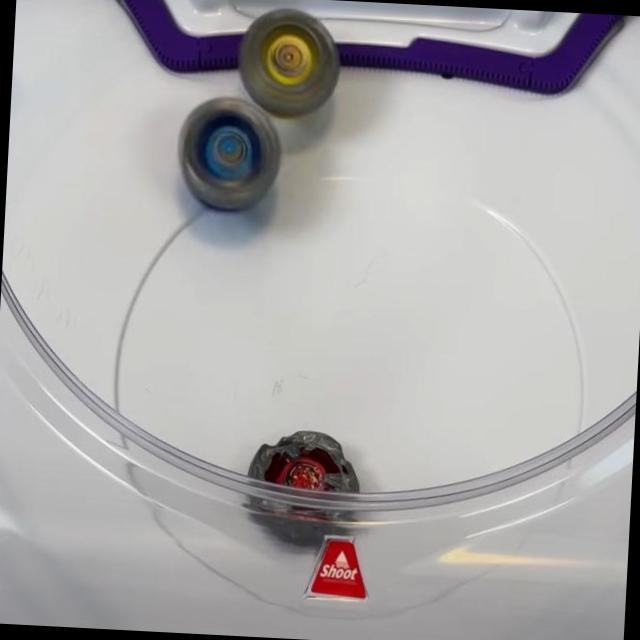Beyblade: (242, 424, 364, 548), (174, 94, 284, 215), (235, 6, 344, 120)
